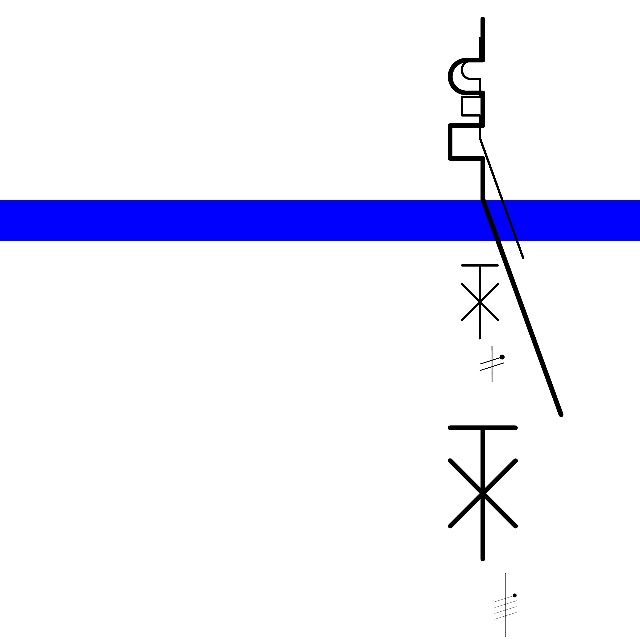interruptor_termomagnetico: (436, 5, 575, 573), (454, 30, 531, 346)
